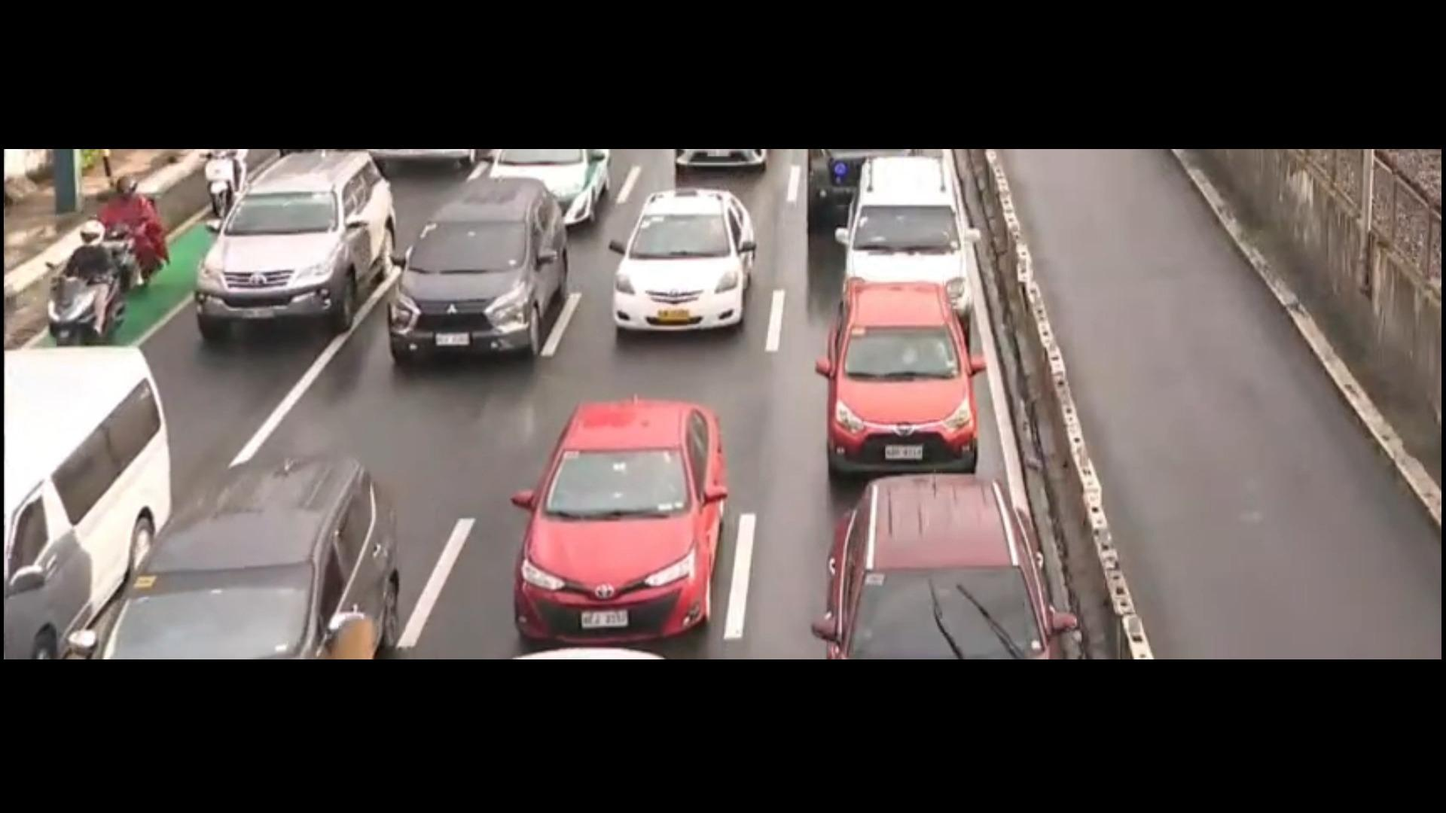Motorcycle: (25, 224, 132, 343), (113, 168, 183, 294), (207, 145, 241, 234)
SUV: (91, 413, 426, 661), (799, 463, 1077, 660), (176, 149, 394, 366), (366, 170, 601, 369), (802, 277, 989, 471), (825, 149, 1006, 310)
Sedan: (491, 390, 772, 634), (593, 175, 757, 339)
Van: (0, 330, 179, 658)
